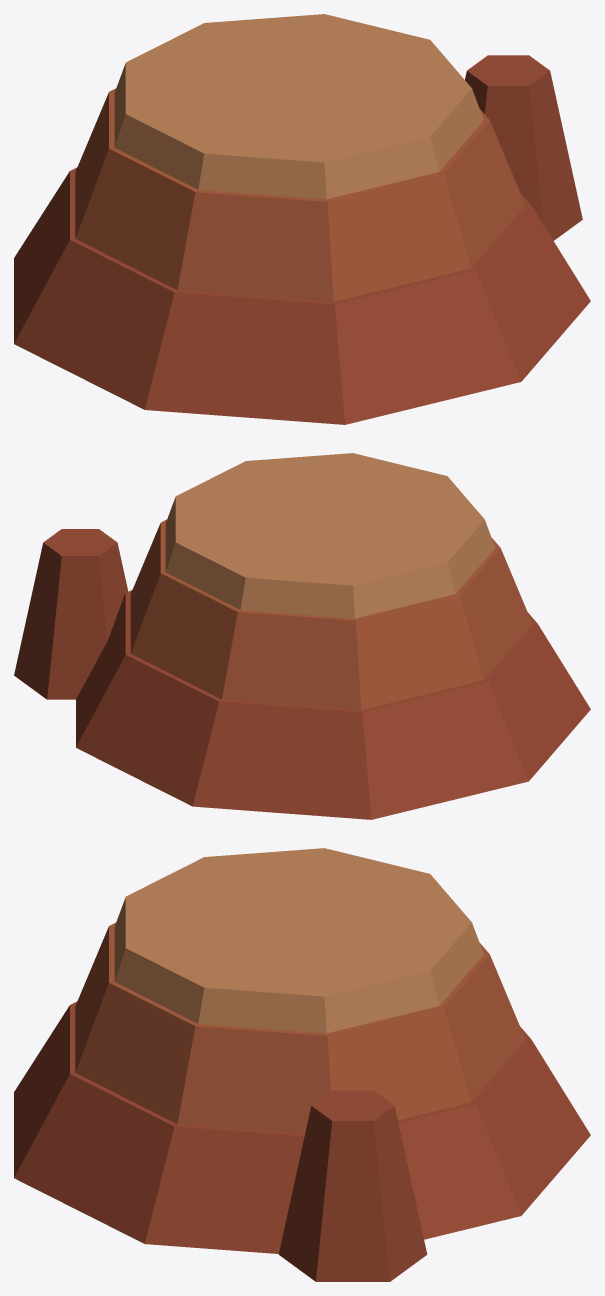
The model's file is mesa_b.glb.
The picture shows the model from 3 angles, top to bottom: view 1: azimuth 30°, elevation 25°; view 2: azimuth 150°, elevation 25°; view 3: azimuth 270°, elevation 25°; orthographic projection. The views are drawn at different scales.
Parts seen in each view (by area): view 1: mesa_b; view 2: mesa_b; view 3: mesa_b.
Boxes of the visible parts, left/top/right/bottom form: mesa_b: left=14, top=14, right=590, bottom=424; mesa_b: left=14, top=453, right=590, bottom=819; mesa_b: left=14, top=848, right=590, bottom=1281.
Bounding box in the file's own units: 81.75 × 30 × 73.71.
